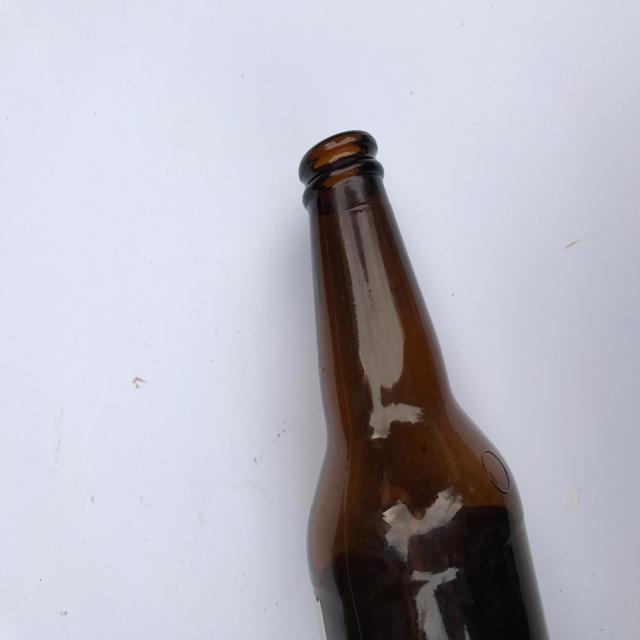glass: (295, 128, 554, 640)
